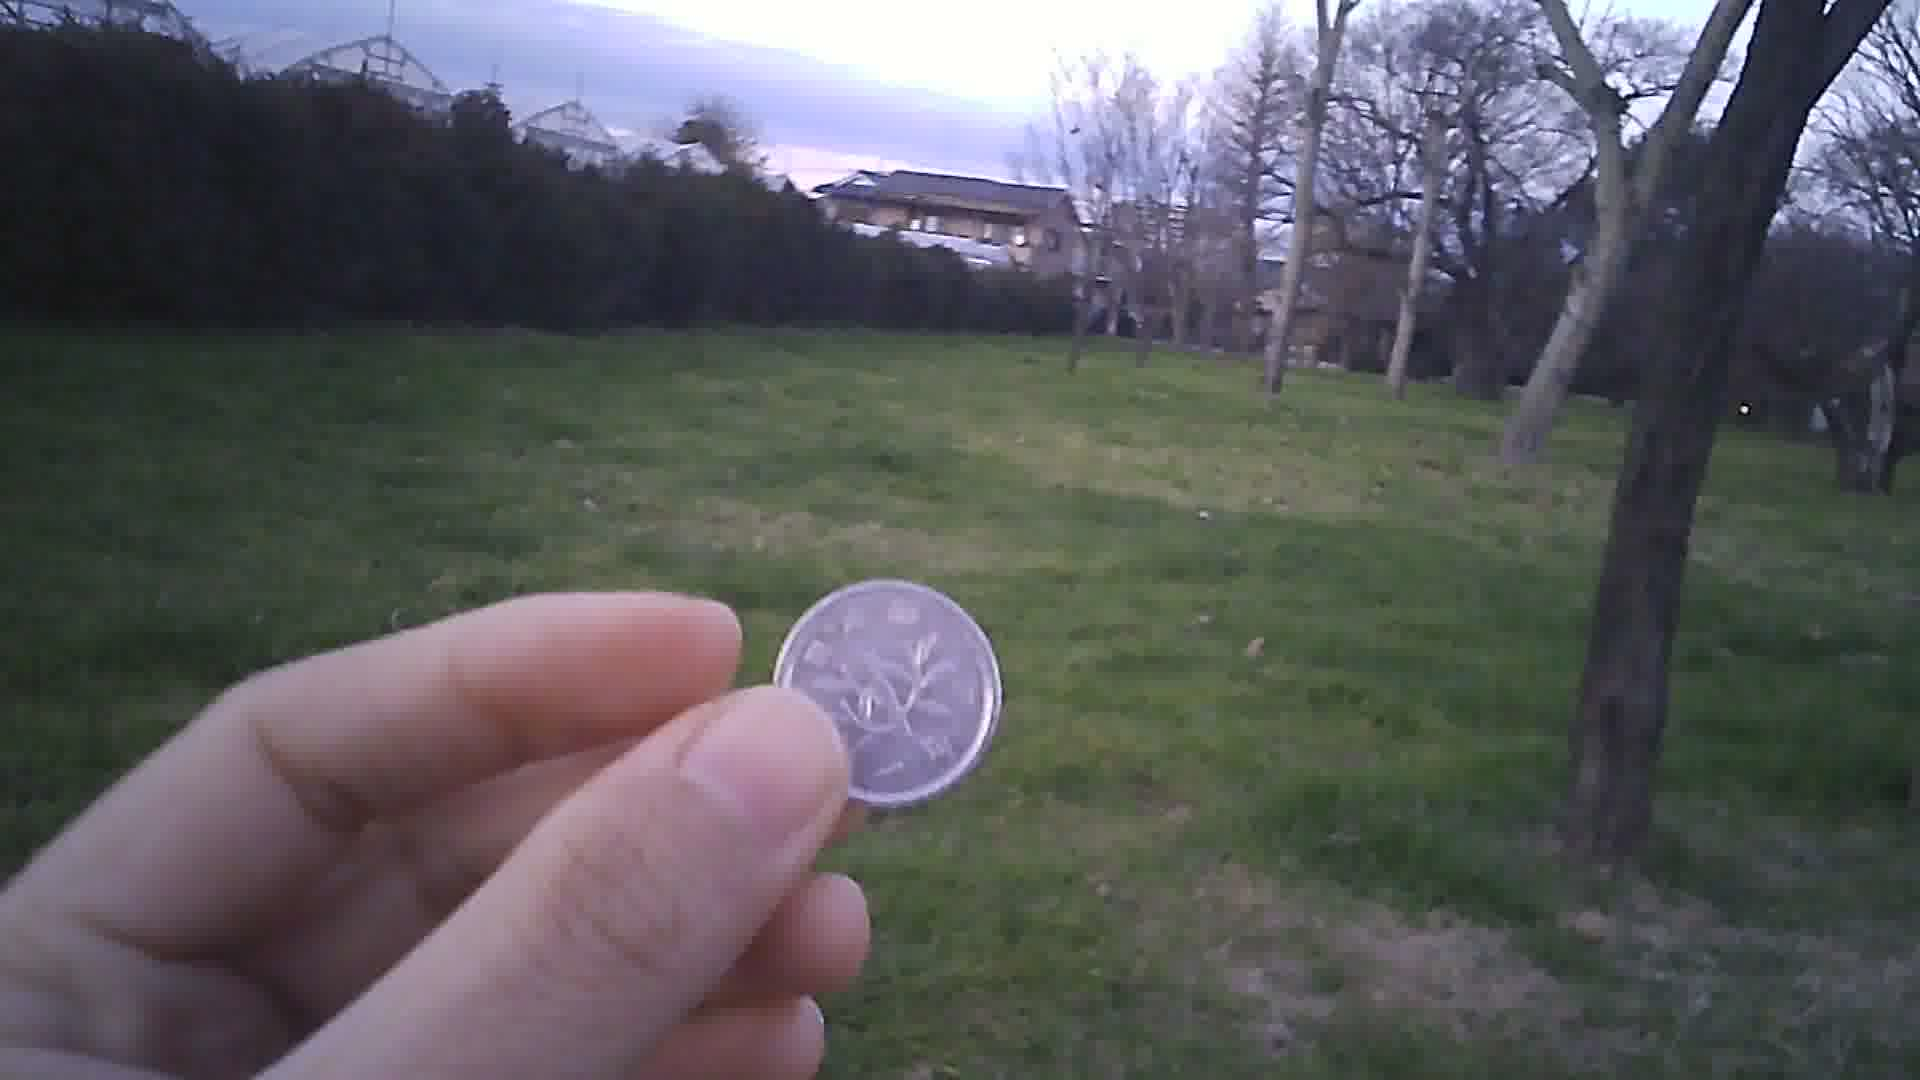1 Yen: (769, 564, 1006, 810)
